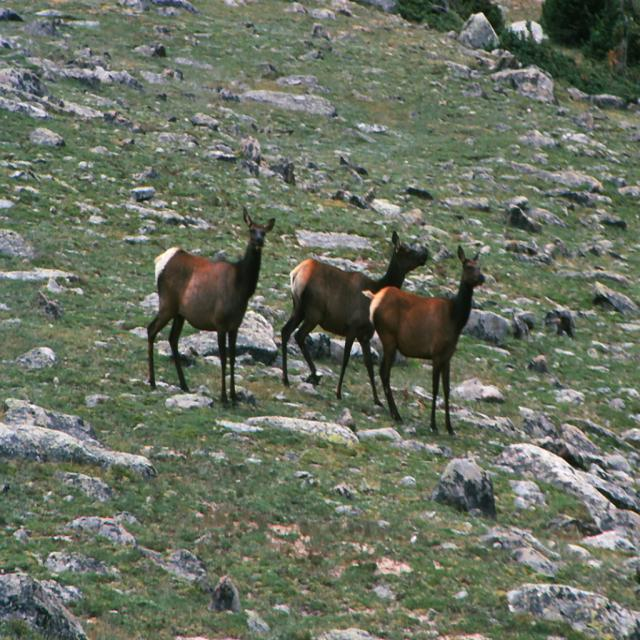Deer: (147, 206, 276, 408), (281, 230, 428, 406), (362, 245, 486, 434)
